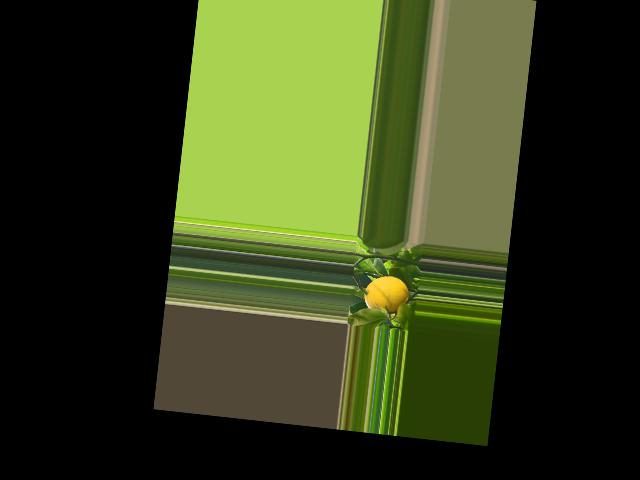lemon: (358, 270, 409, 320)
